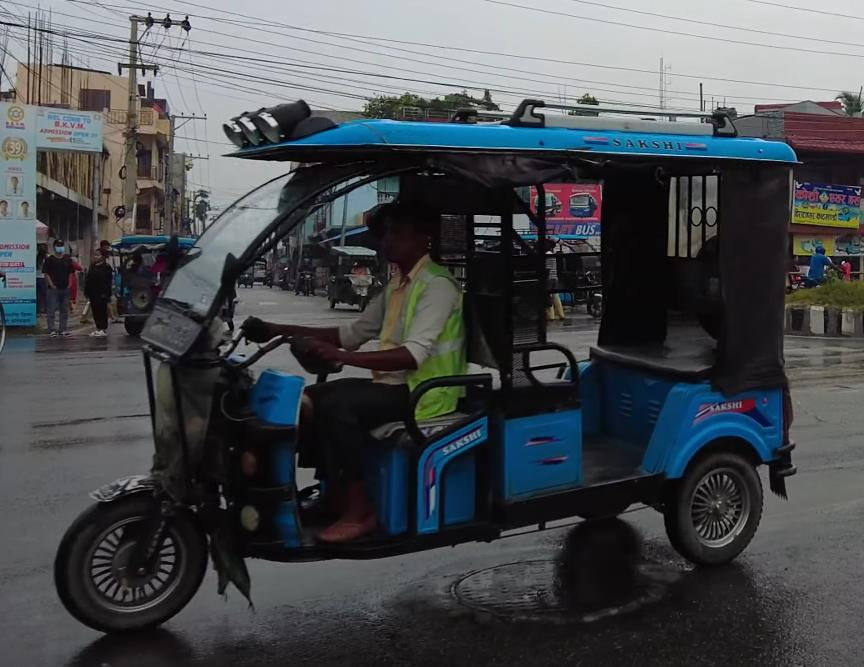e-rickshaw: (40, 107, 798, 637)
